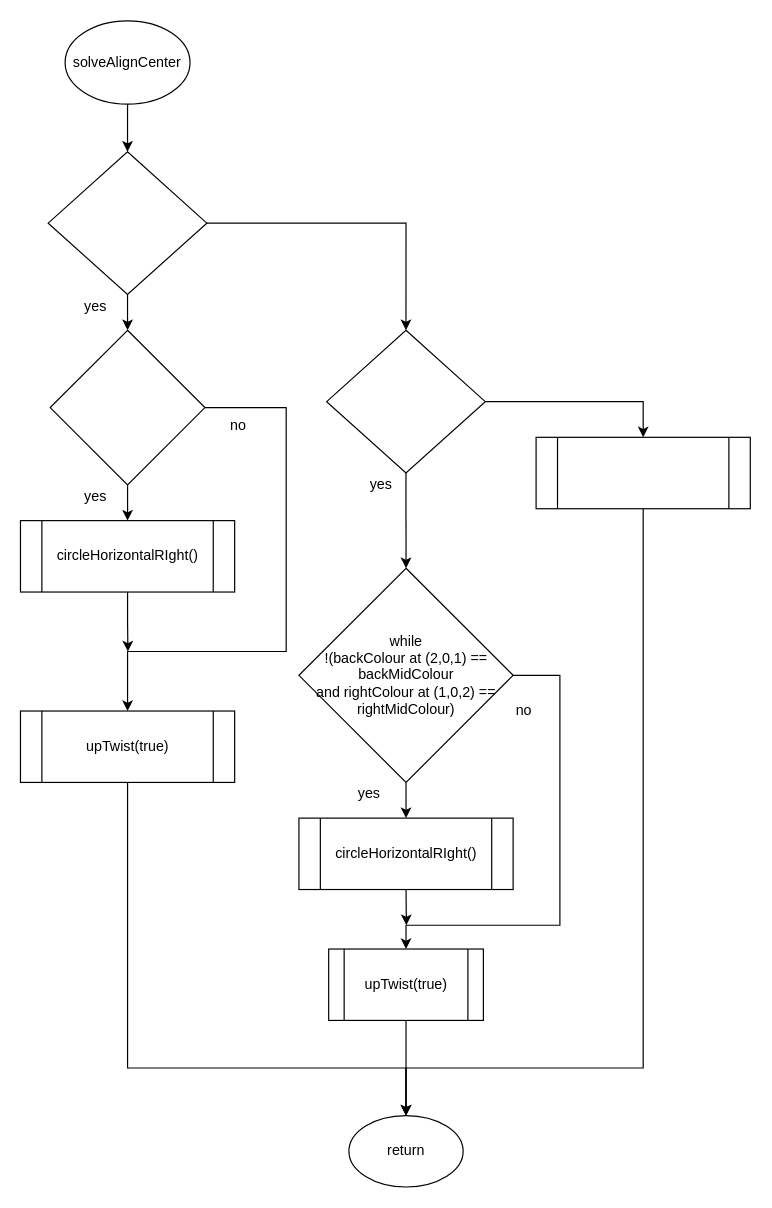
Image size: 772x1208. Some labels were removed from this diagram. Each missing label, with the box of its shape:
are adjacent colours are same: (325, 329, 485, 473)
are opposite colours are same: (47, 151, 207, 295)
upHorizontalRIght(): (535, 436, 750, 509)
while upColour at (0,0,1) != midColour: (49, 329, 205, 485)
